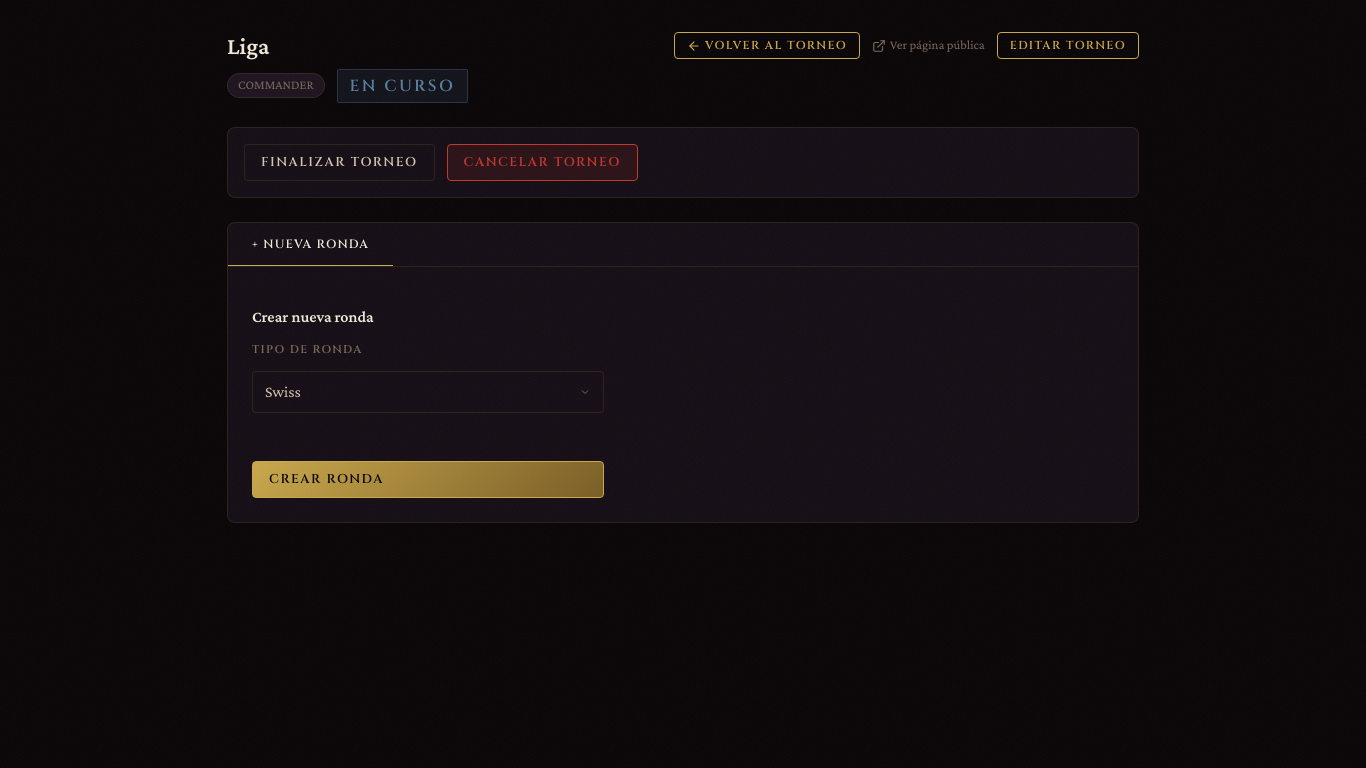
GestionTorneo › cierra el modal de confirmacion de estado al hacer Cancelar
Expected: the heading "Liga" is shown, [227,32,270,59]
Click the button "Finalizar torneo" at point(339, 162), box [244,144,434,181]
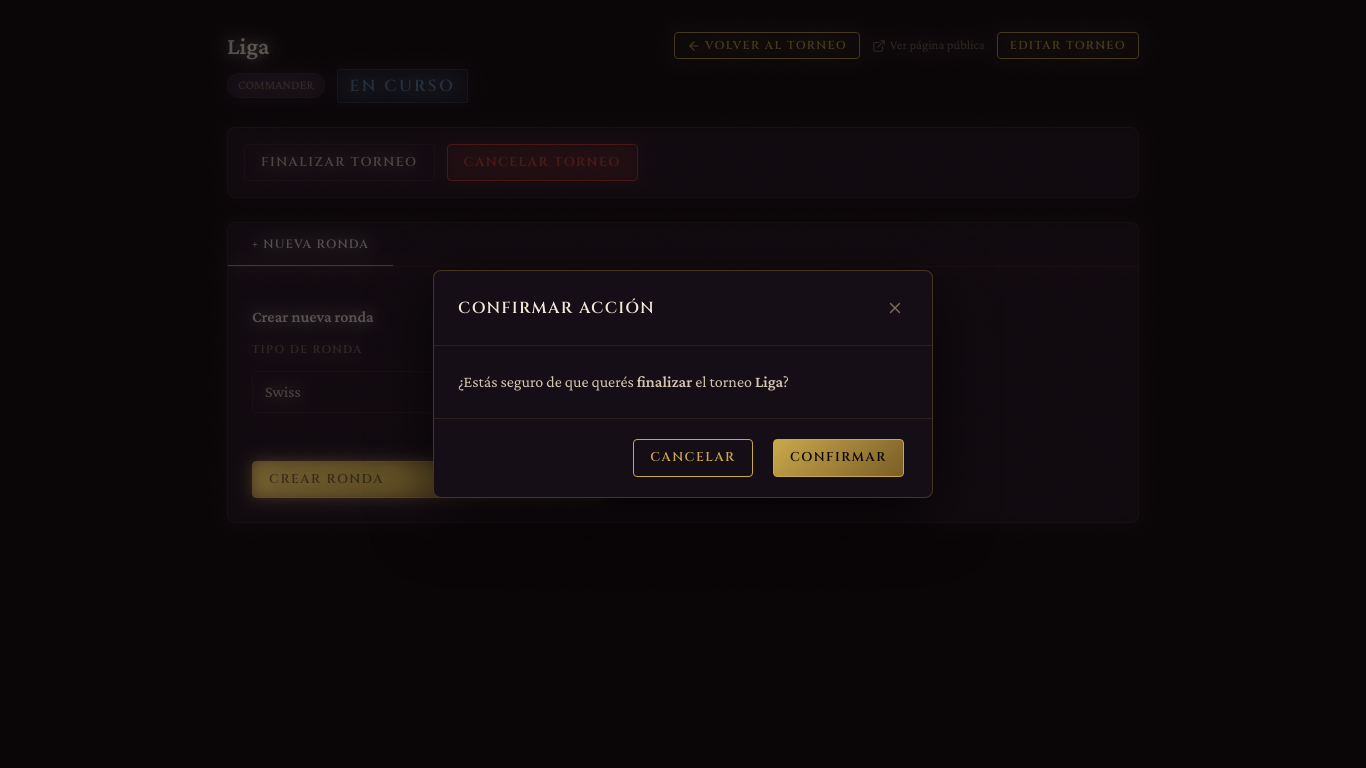
Expected: the text "Confirmar acción" is shown, [458,296,655,320]
Click Cancelar in modal
Click the button "Cancelar" at point(693, 458), box [633,439,753,477]
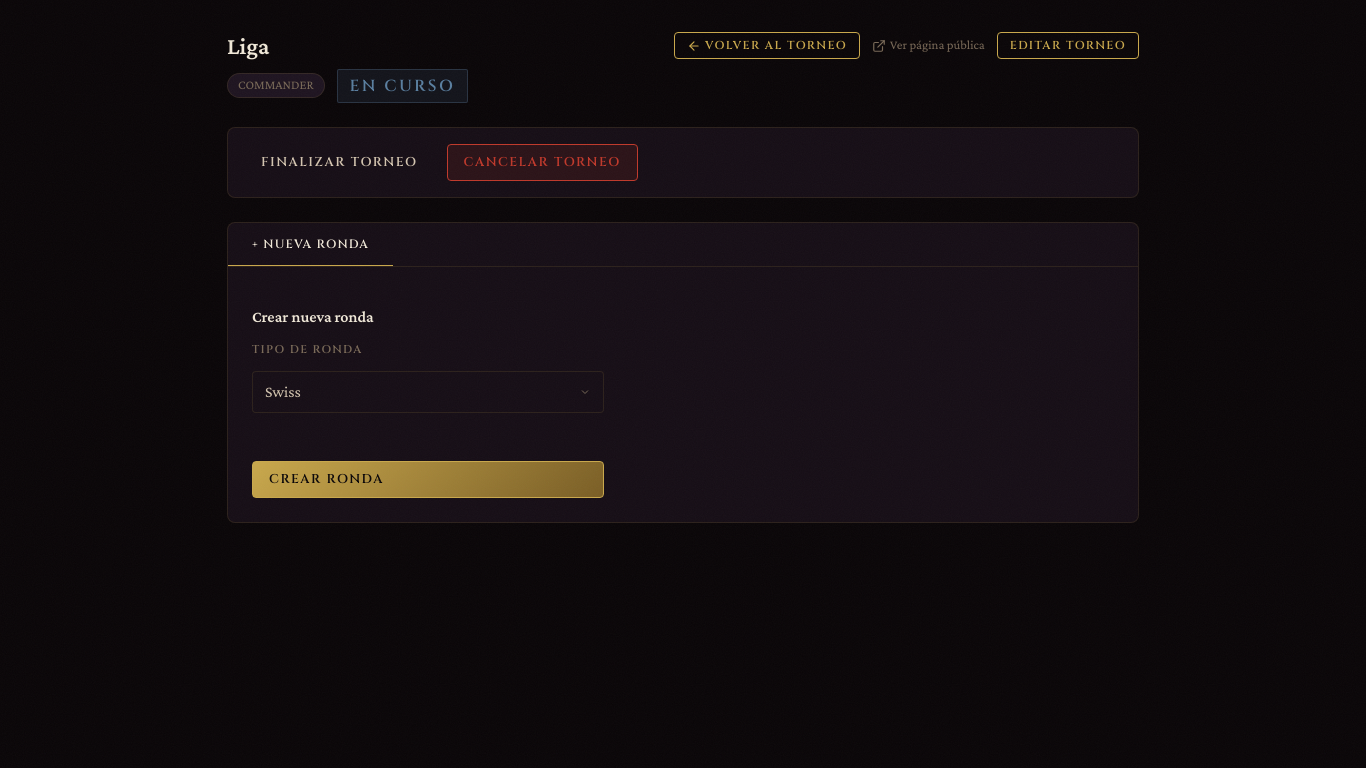
Expected: the text "Confirmar acción" is gone
